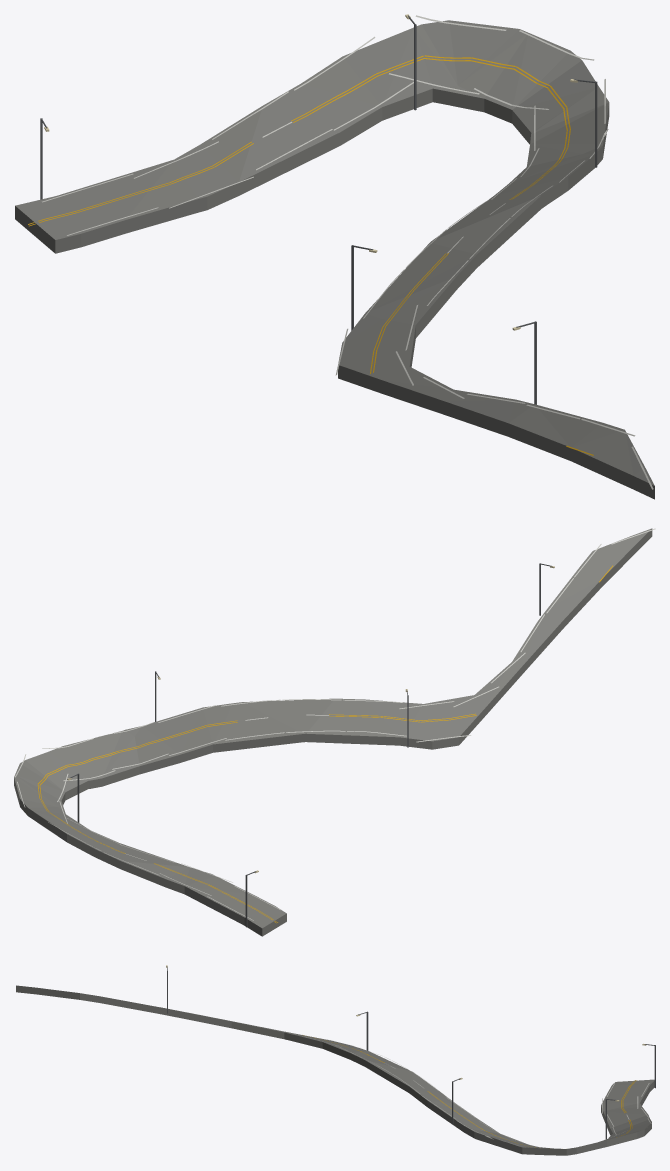
File: 17-109458-59448.641aaf87.glb
The picture shows the model from 3 angles, top to bottom: view 1: azimuth 30°, elevation 25°; view 2: azimuth 150°, elevation 25°; view 3: azimuth 270°, elevation 25°; orthographic projection. The views are drawn at different scales.
Bounding box in the file's own units: 45.58 × 22.15 × 102.
